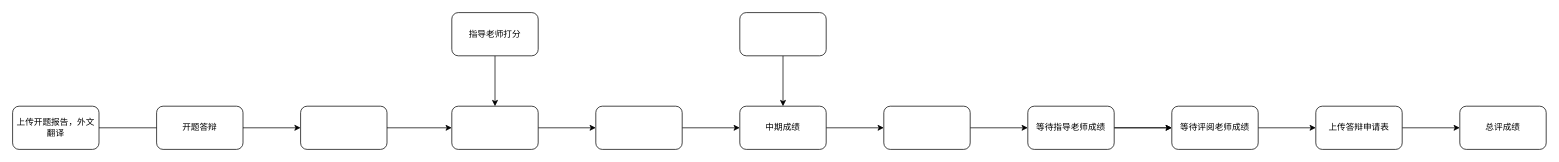
Image size: 1559x162. Some labels were removed from this diagram. Each missing label, with the centre of its shape:
上传中期成果: the point at 638,127
上传终稿: the point at 926,127
开题成绩: the point at 494,127
组长打分: the point at 782,34
